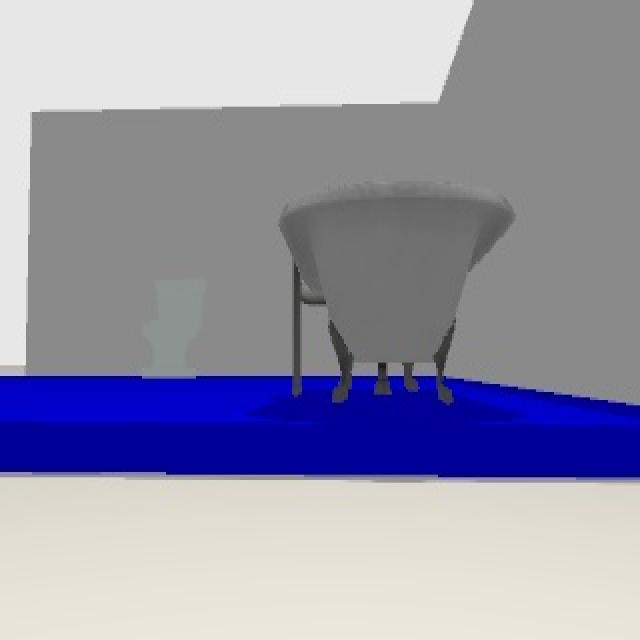bathtub: (280, 189, 516, 405)
